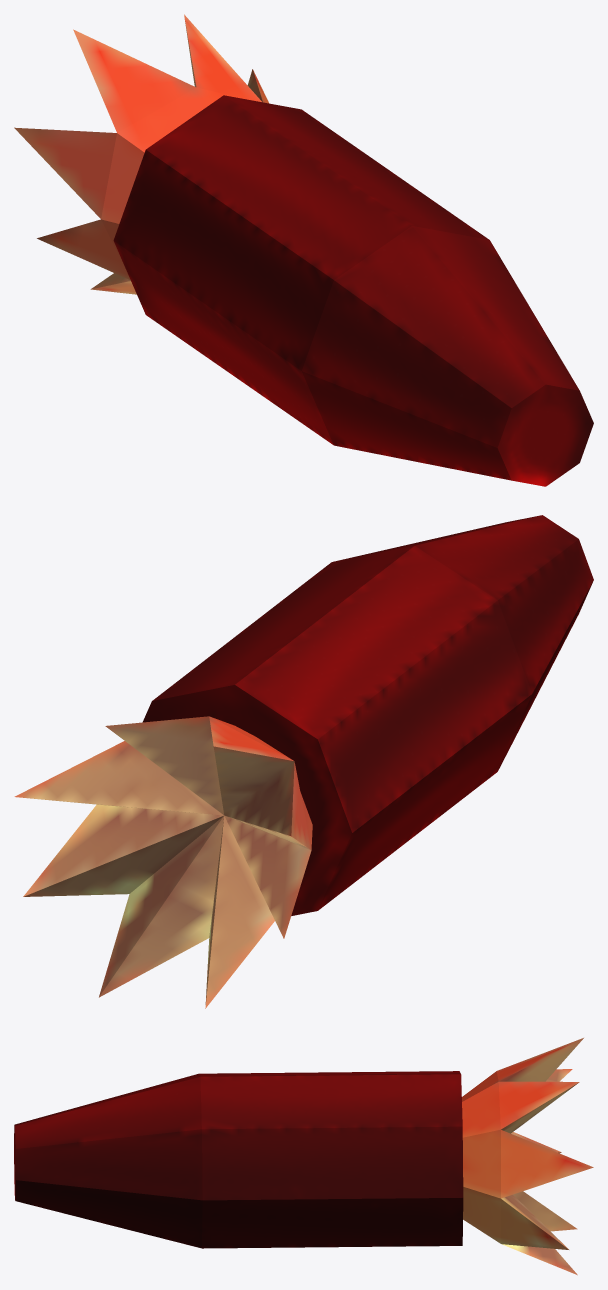
3 views of the same model, one above another, from view 1: azimuth 30°, elevation 25°; view 2: azimuth 150°, elevation 25°; view 3: azimuth 270°, elevation 25° (orthographic). The views are drawn at different scales.
Visible parts, largest first — view 1: Bala_Cylinder.003, Fogonazo_Cylinder.004; view 2: Bala_Cylinder.003, Fogonazo_Cylinder.004; view 3: Bala_Cylinder.003, Fogonazo_Cylinder.004.
Boxes of the visible parts, x1,y1,x2,y2 form: Bala_Cylinder.003: [113, 95, 593, 486]; Fogonazo_Cylinder.004: [14, 14, 269, 294]; Bala_Cylinder.003: [142, 515, 593, 915]; Fogonazo_Cylinder.004: [14, 716, 312, 1008]; Bala_Cylinder.003: [14, 1071, 463, 1248]; Fogonazo_Cylinder.004: [462, 1038, 593, 1275].
Size of what is drawn, in the model's own units: 0.3279 by 0.3285 by 0.8744.
